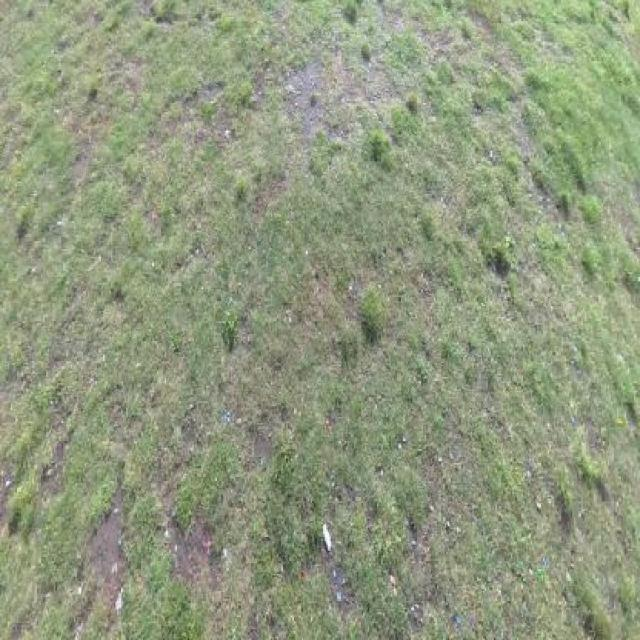Garbage: (323, 523, 331, 552)
